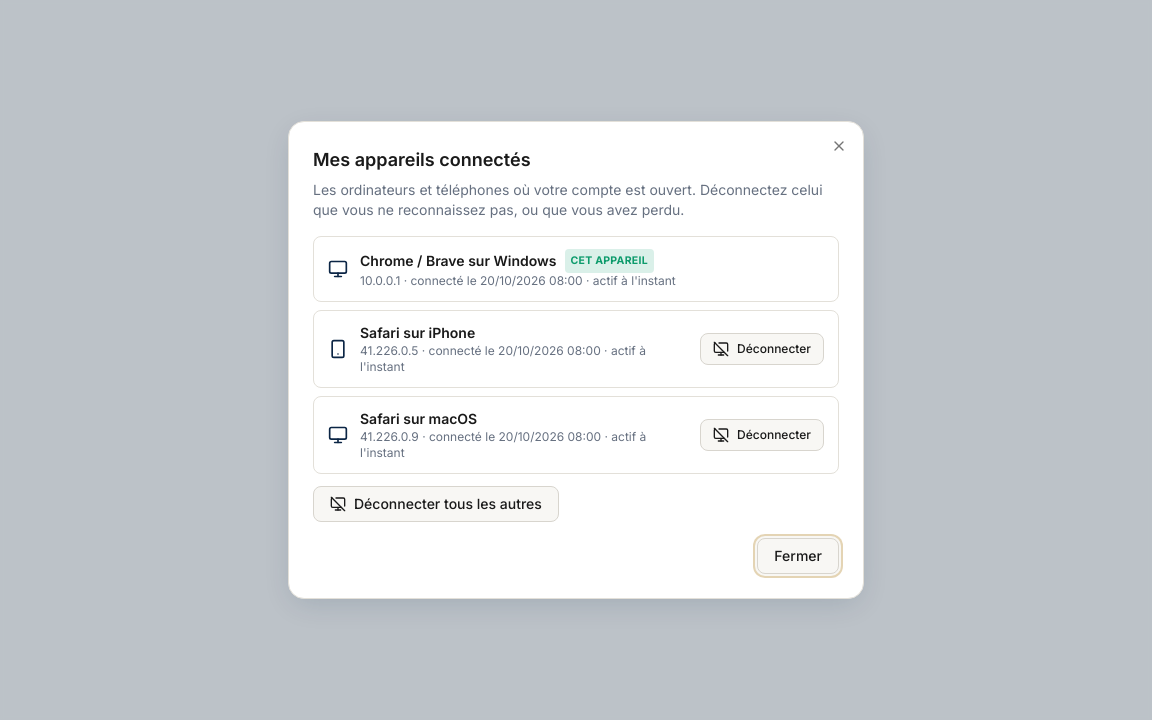
Test: mes appareils connectés › « Déconnecter » ferme UN appareil, prévient, et recharge la liste
The image size is (1152, 720).
Click the button with aria-label "Déconnecter Safari sur iPhone" at (762, 349), box [700,333,824,365]
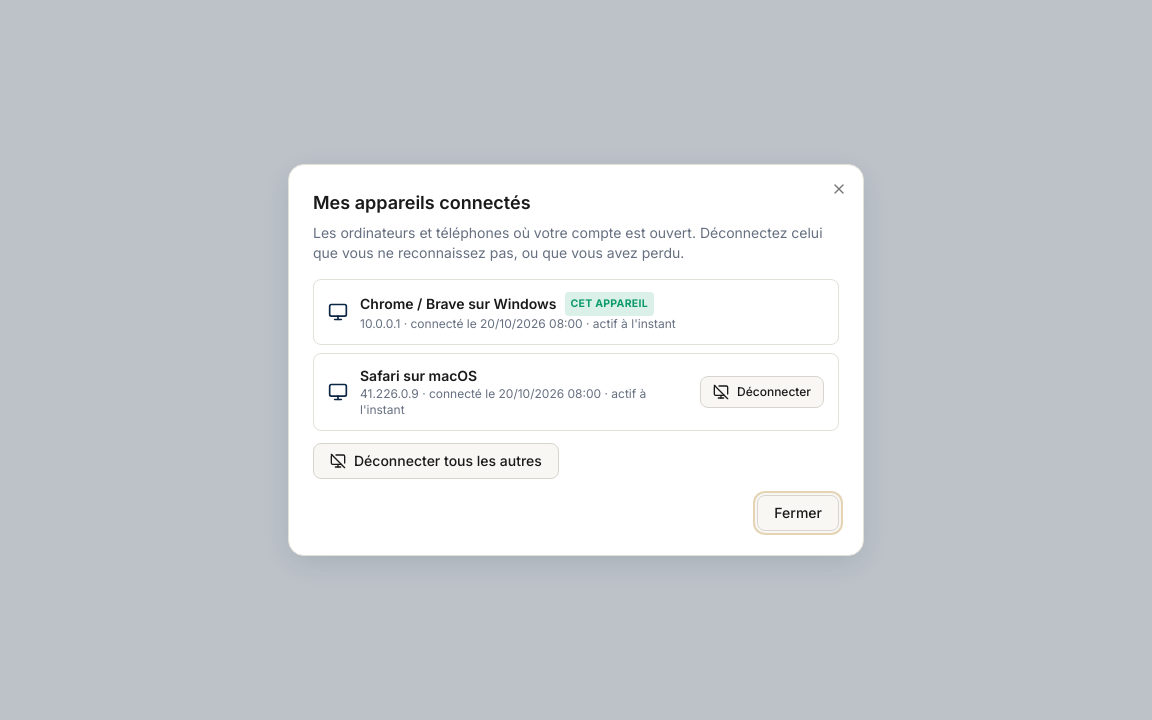
Expected: the text "Safari sur macOS" is shown, [360,367,477,384]
Expected: the text "Safari sur iPhone" is gone
